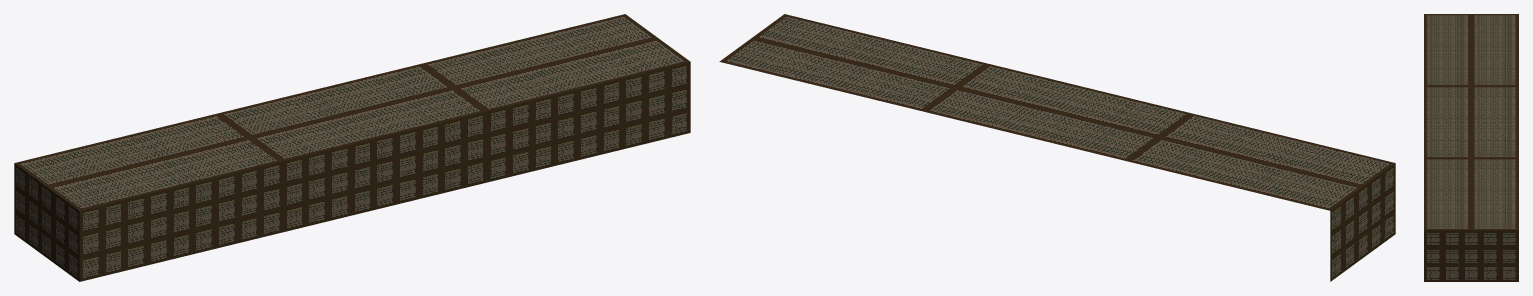
File: ground.glb
3 views of the same model, side by side, from view 1: azimuth 30°, elevation 25°; view 2: azimuth 150°, elevation 25°; view 3: azimuth 270°, elevation 25° (orthographic). The views are drawn at different scales.
Parts seen in each view (by area): view 1: default; view 2: default; view 3: default.
Part boxes in pixels (x1,y1,x2,y2): default: [14, 14, 690, 281]; default: [719, 14, 1395, 281]; default: [1424, 14, 1518, 281].
Size of the model in its own units: 54 by 6 by 10.
1 material, 1 textured.
